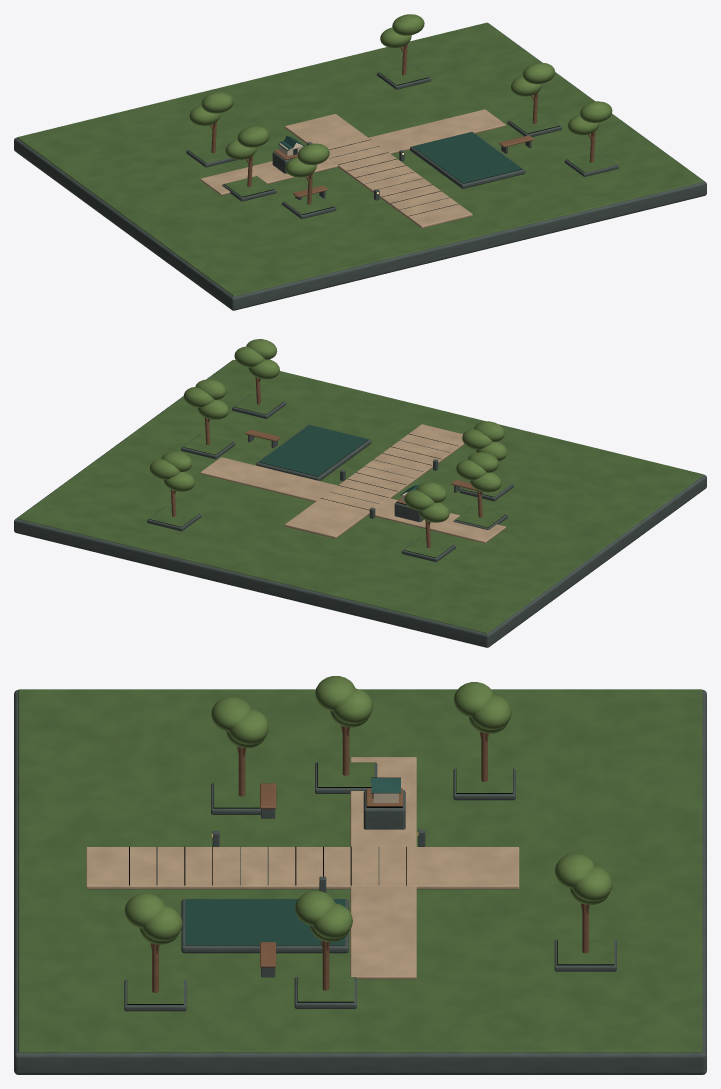
The model's file is compaii-atelier-garden.glb.
3 renders of one model, top to bottom at view 1: azimuth 30°, elevation 25°; view 2: azimuth 150°, elevation 25°; view 3: azimuth 270°, elevation 25°, orthographic. The views are drawn at different scales.
Visible parts, largest first — view 1: VIS · Garden court; view 2: VIS · Garden court; view 3: VIS · Garden court.
Part boxes in pixels (x1,y1,x2,y2): VIS · Garden court: (14, 14, 706, 310); VIS · Garden court: (14, 339, 706, 647); VIS · Garden court: (14, 676, 706, 1074).
Bounding box in the file's own units: 30 × 4.79 × 24.
Materials: 11 (11 with a texture image).
